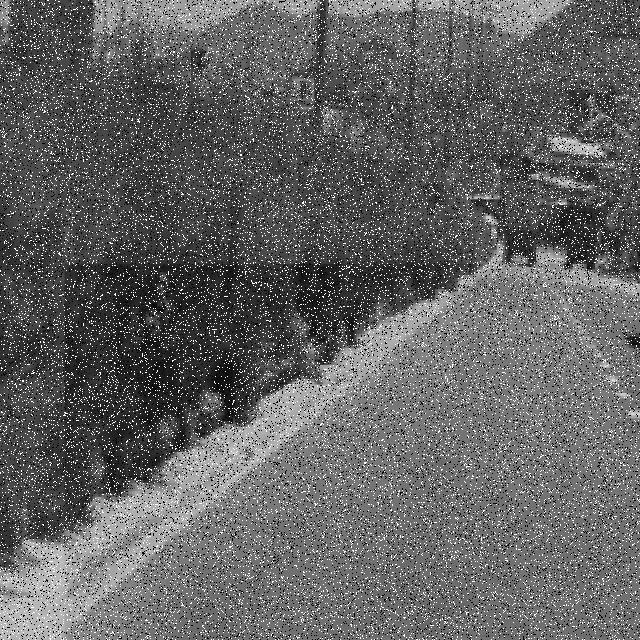clear-road: (70, 266, 640, 640)
